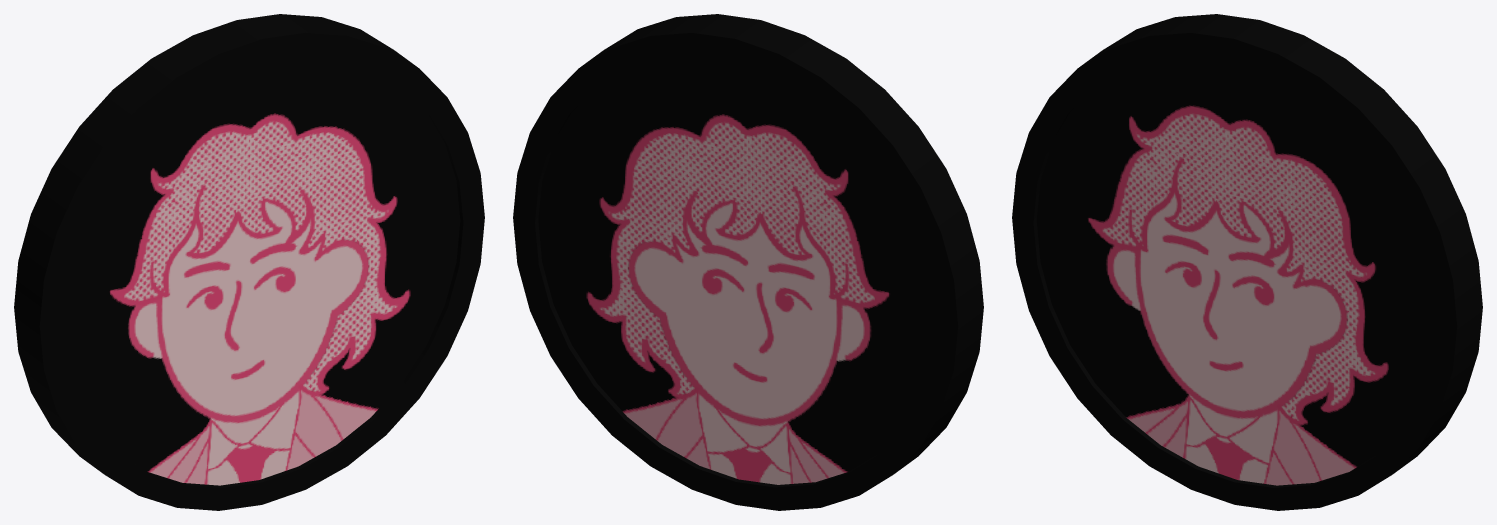
The model's file is Icon3d.glb.
The picture shows the model from 3 angles, left to right: view 1: azimuth 30°, elevation 25°; view 2: azimuth 150°, elevation 25°; view 3: azimuth 330°, elevation 25°; orthographic projection.
Parts seen in each view (by area): view 1: Cylinder.001; view 2: Cylinder.001; view 3: Cylinder.001.
Part boxes in pixels (<box>): Cylinder.001: <box>14,14,484,510</box>; Cylinder.001: <box>513,14,983,510</box>; Cylinder.001: <box>1012,14,1482,510</box>.
Size of the model in its own units: 2 by 2 by 0.2.
Materials: 2 (1 with a texture image).
